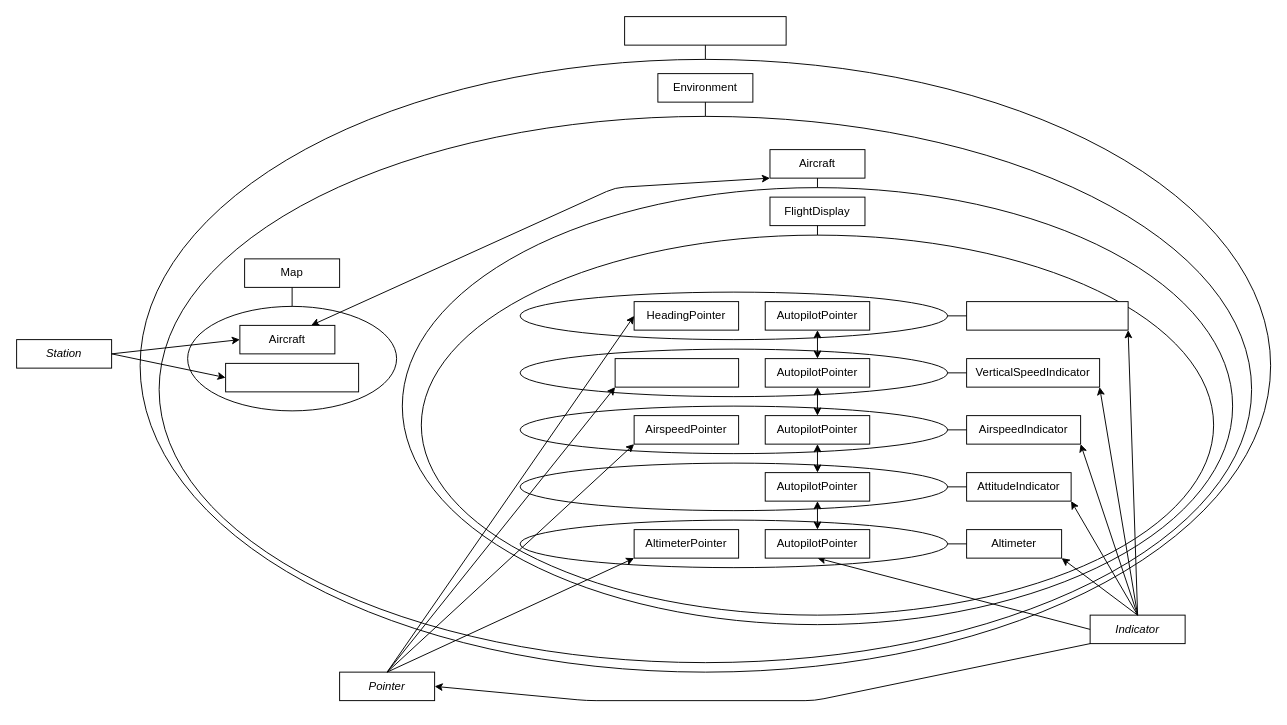
Some shapes in this 1287 by 725 pixel diagram are drawn without their labels. The centre of each missing label's shape, as x and y in pixels:
AviationInstrumentTraining: (705,30)
HorizontalSituationIndicator: (1047,315)
NonDirectionalBeacon: (292,377)
VerticalSpeedPointer: (676,372)
